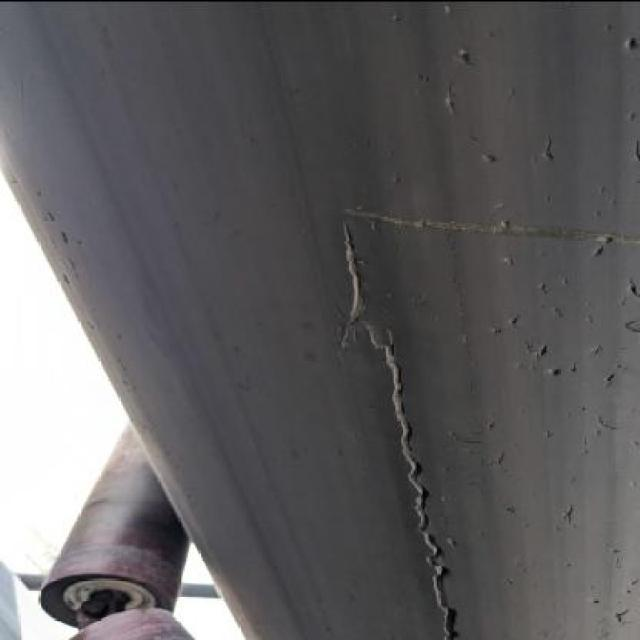Puncture: (584, 242, 610, 264), (453, 49, 479, 71), (542, 363, 570, 383), (530, 338, 553, 361), (620, 34, 640, 55), (495, 215, 516, 234), (444, 530, 462, 552), (602, 367, 619, 390), (602, 229, 619, 248)
Tear: (330, 213, 470, 640), (352, 154, 640, 289), (433, 80, 462, 120), (562, 500, 578, 530)
